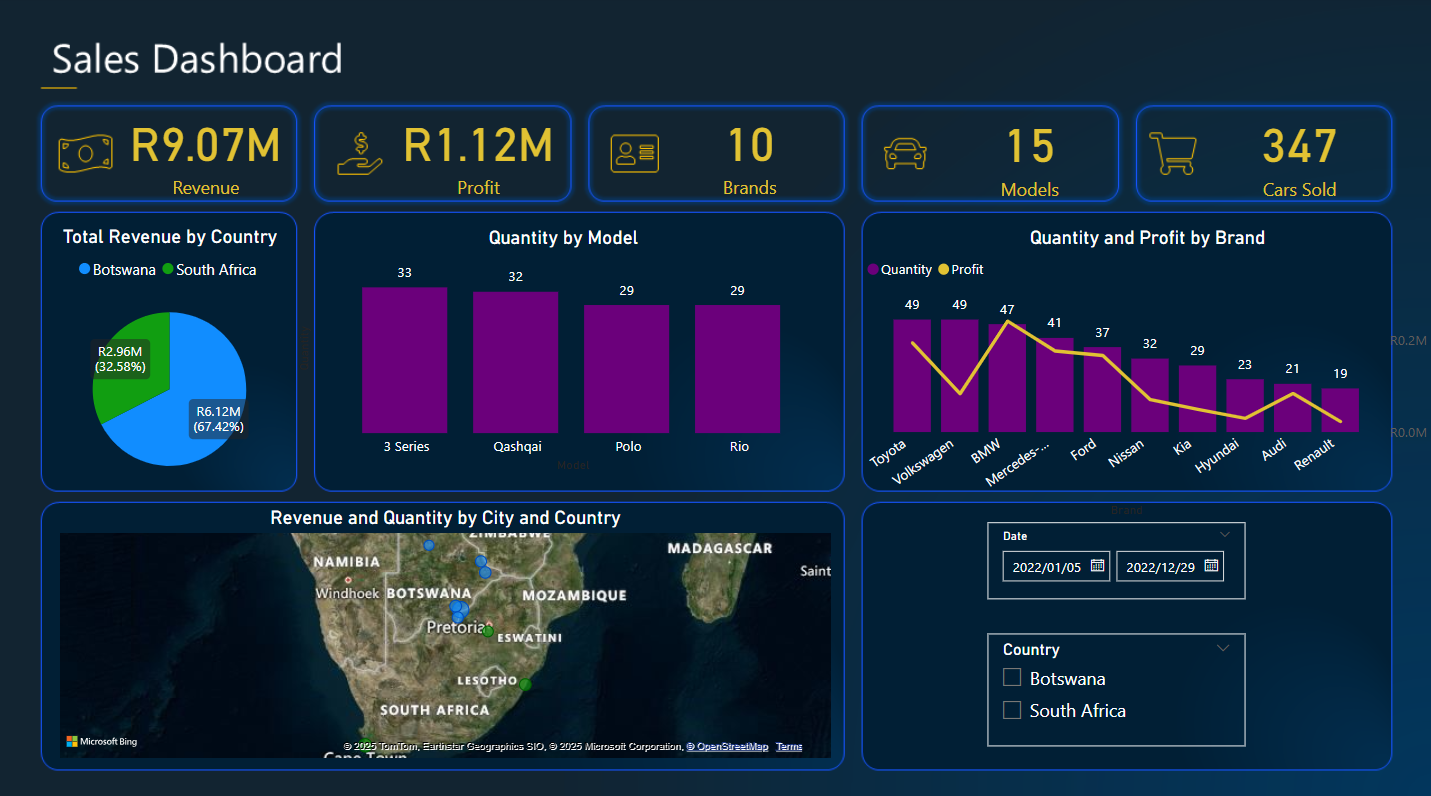

This screenshot's page, from the dashboard's own definition file:
{"tool":"powerbi","page":{"name":"Page 1","canvas":[1280,720],"ordinal":0},"visuals":[{"type":"pieChart","fields":{"Category":["Dealers.Country"],"Y":["Sum(Sales.Total Revenue)"]},"box":[11.6,204.7,281.4,245.3],"z":0},{"type":"clusteredColumnChart","fields":{"Category":["Models.Model"],"Y":["Sum(Sales.Quantity)"]},"box":[261.2,205,483.8,225],"z":1000},{"type":"map","fields":{"Category":["Dealers.City"],"Size":["Sum(Sales.Total Revenue)"],"Series":["Dealers.Country"]},"box":[48.8,455,697.5,230],"z":2000},{"type":"lineStackedColumnComboChart","fields":{"Category":["Models.Brand"],"Y":["Sum(Sales.Quantity)"],"Y2":["Sum(Sales.Total Profit)"]},"box":[768.8,205,511.2,265],"z":3000},{"type":"card","fields":{"Values":["Sum(Sales.Revenue)"]},"box":[107.5,96.2,153.8,86.2],"z":4000},{"type":"card","fields":{"Values":["Sum(Sales.Profit)"]},"box":[350,96.2,153.8,86.2],"z":5000},{"type":"card","fields":{"Values":["Count(Models.Brand)"]},"box":[592.5,96.2,153.8,86.2],"z":6000},{"type":"card","fields":{"Values":["Count(Models.Model)"]},"box":[842.5,97.5,153.8,86.2],"z":7000},{"type":"card","fields":{"Values":["Sum(Sales.Quantity)"]},"box":[1083.8,97.5,153.8,86.2],"z":8000},{"type":"slicer","fields":{"Values":["Sales.Date"]},"box":[881.4,469.8,230.2,68.6],"z":9000},{"type":"slicer","fields":{"Values":["Dealers.Country"]},"box":[881.4,569.8,230.2,101.2],"z":10000}]}

Visuals, with their boxes in screenshot pixels (x1, y1, x2, y2), scaled from the page's 1280x720 canvas onto the 1431x796 screenshot:
pieChart - Dealers.Country x Sum(Sales.Total Revenue): box=[13, 226, 328, 498]
clusteredColumnChart - Models.Model x Sum(Sales.Quantity): box=[292, 227, 833, 475]
map - Dealers.City x Sum(Sales.Total Revenue): box=[55, 503, 834, 757]
lineStackedColumnComboChart - Models.Brand x Sum(Sales.Quantity): box=[859, 227, 1430, 520]
card - Sum(Sales.Revenue): box=[120, 106, 292, 202]
card - Sum(Sales.Profit): box=[391, 106, 563, 202]
card - Count(Models.Brand): box=[662, 106, 834, 202]
card - Count(Models.Model): box=[942, 108, 1114, 203]
card - Sum(Sales.Quantity): box=[1212, 108, 1384, 203]
slicer - Sales.Date: box=[985, 519, 1243, 595]
slicer - Dealers.Country: box=[985, 630, 1243, 742]
